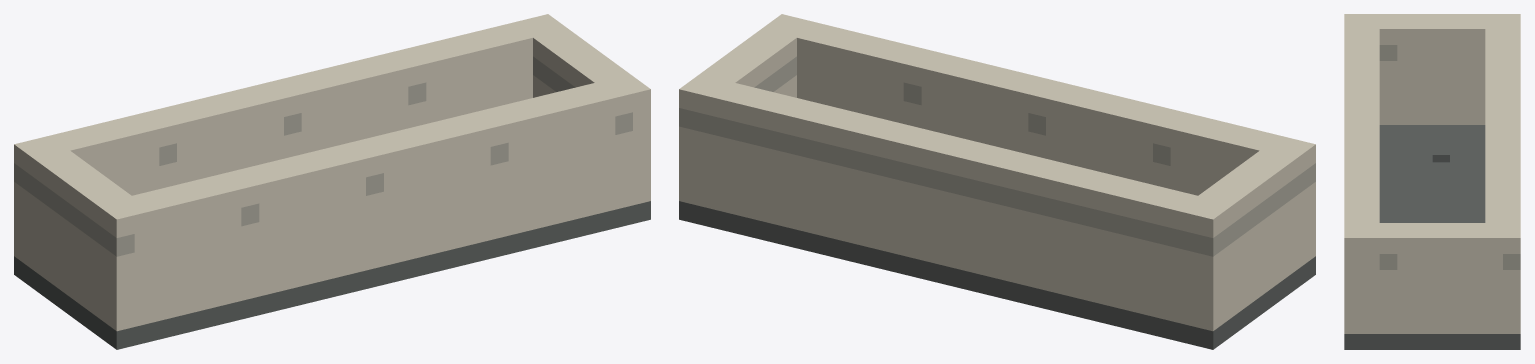
The model's file is visual-far.glb.
3 views of the same model, side by side, from view 1: azimuth 30°, elevation 25°; view 2: azimuth 150°, elevation 25°; view 3: azimuth 270°, elevation 25° (orthographic). The views are drawn at different scales.
Parts seen in each view (by area): view 1: 独立花槽与树池边框母版; view 2: 独立花槽与树池边框母版; view 3: 独立花槽与树池边框母版.
Part boxes in pixels (<box>): 独立花槽与树池边框母版: <box>14,14,650,349</box>; 独立花槽与树池边框母版: <box>679,14,1315,349</box>; 独立花槽与树池边框母版: <box>1344,14,1520,349</box>.
Bounding box in the file's own units: 6 × 1.4 × 2.
3 materials, 3 textured.
